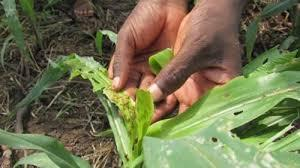fallarmy_worm: (116, 94, 130, 107)
